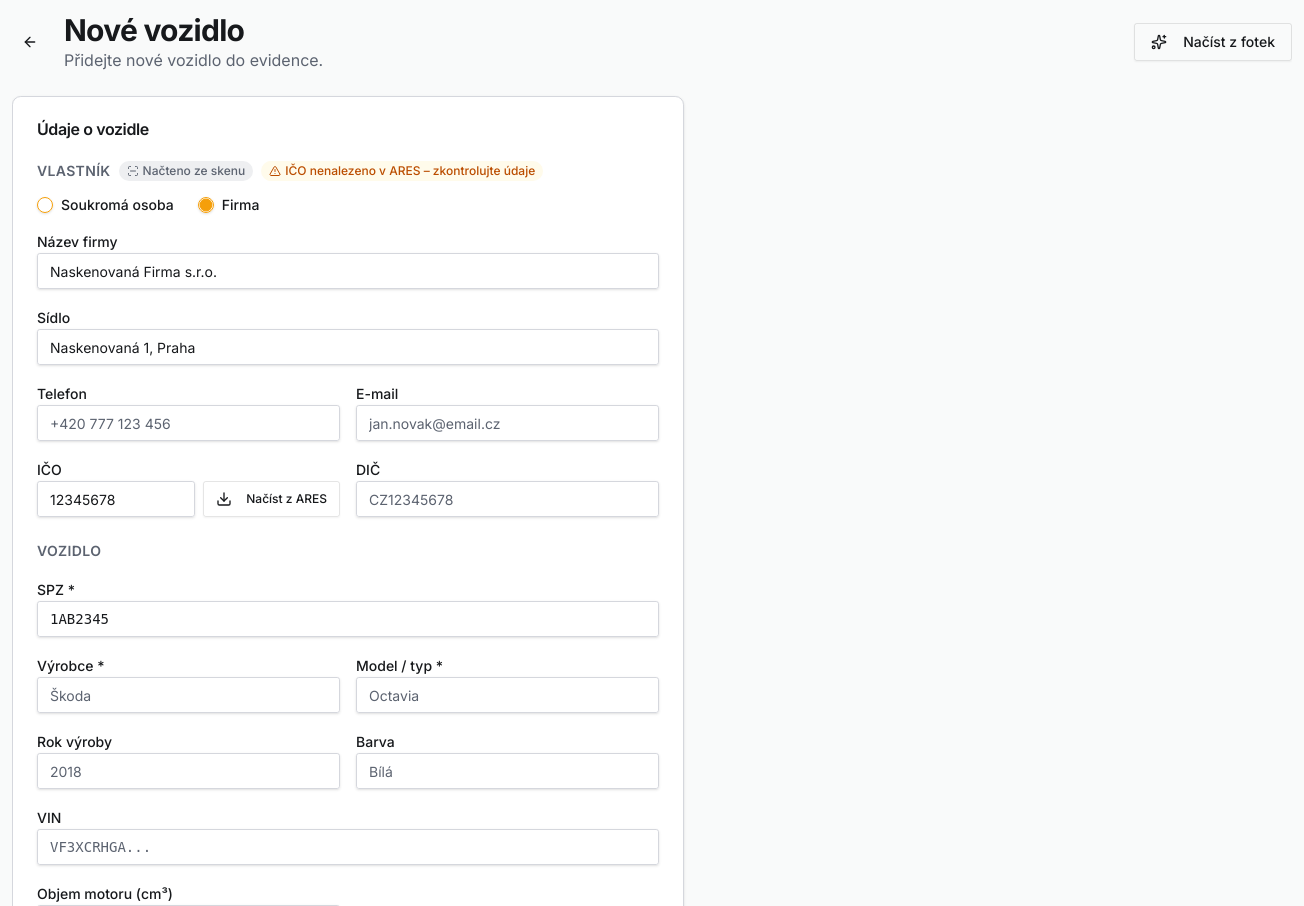
New vehicle ARES verification warning after a scan › clears the warning after the user edits an owner field
expect the text "IČO nenalezeno v ARES – zkontrolujte údaje" is shown: met, box [261, 161, 543, 181]
Type "X" into the field showing "Naskenovaná Firma s.r.o." below "Název firmy" at (348, 271), box [37, 253, 659, 289]
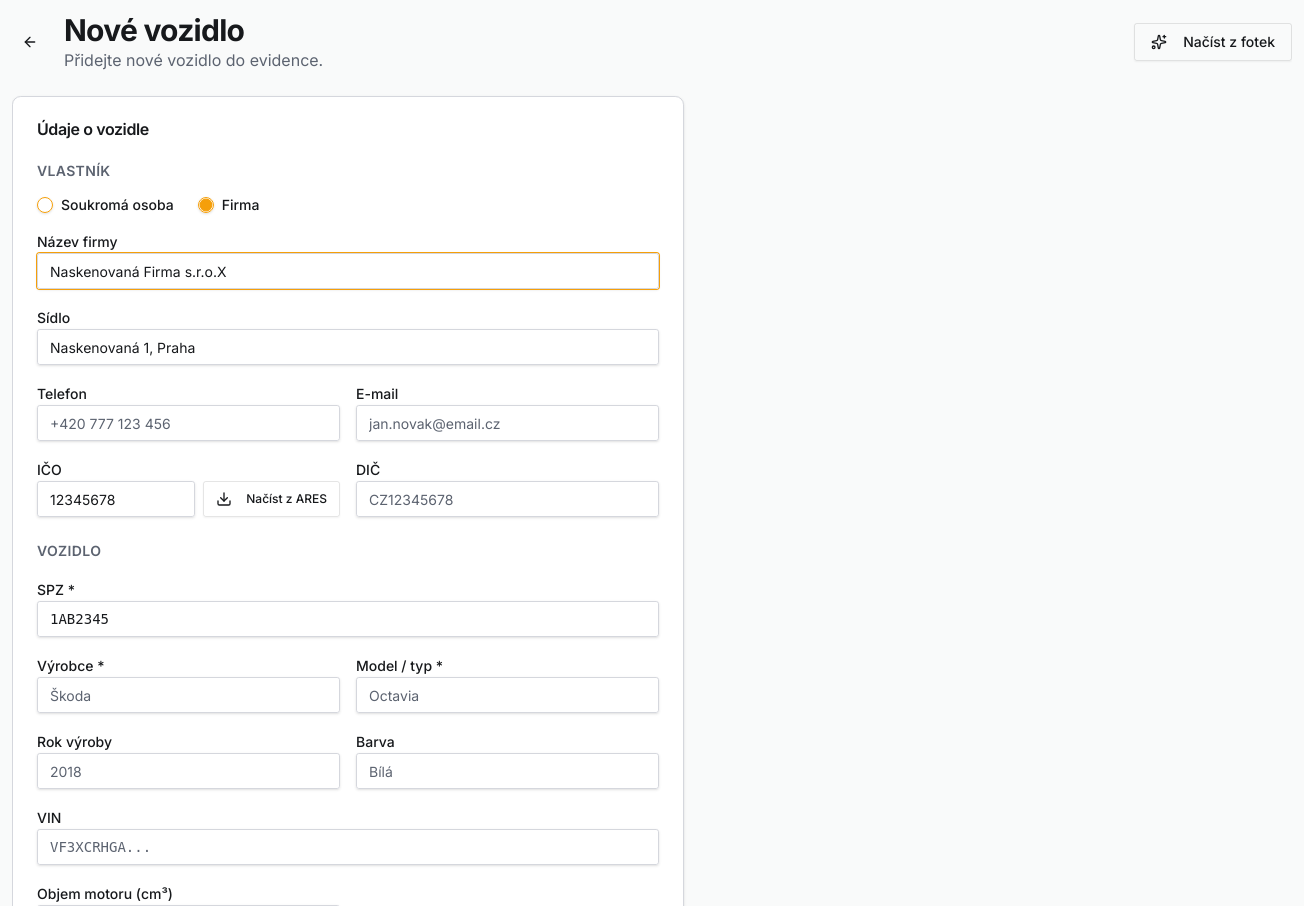
expect the text "IČO nenalezeno v ARES – zkontrolujte údaje" is gone: met
